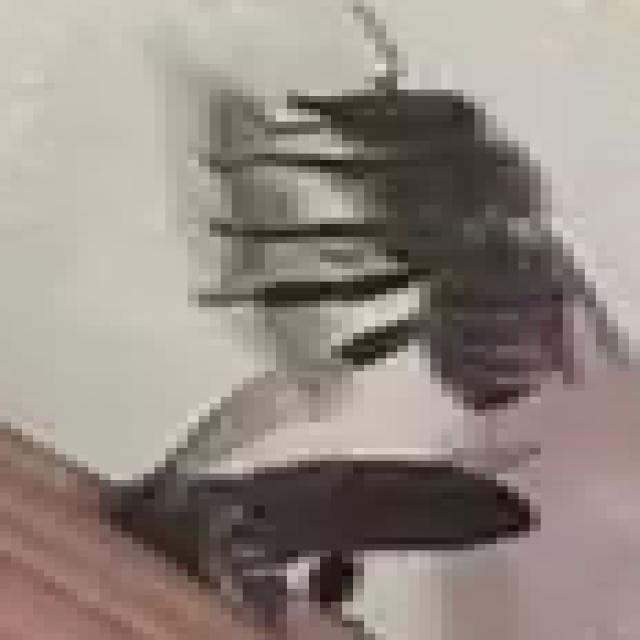honeybee: (186, 44, 636, 431), (103, 422, 600, 615)
